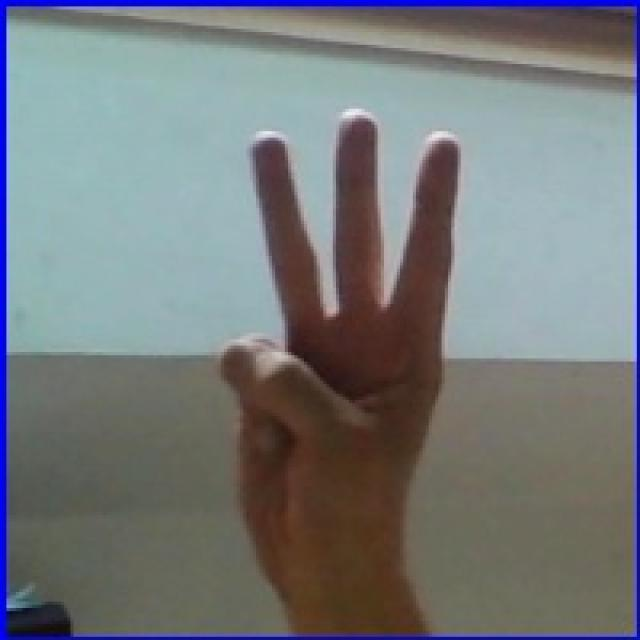Letra-W: (192, 94, 497, 602)
